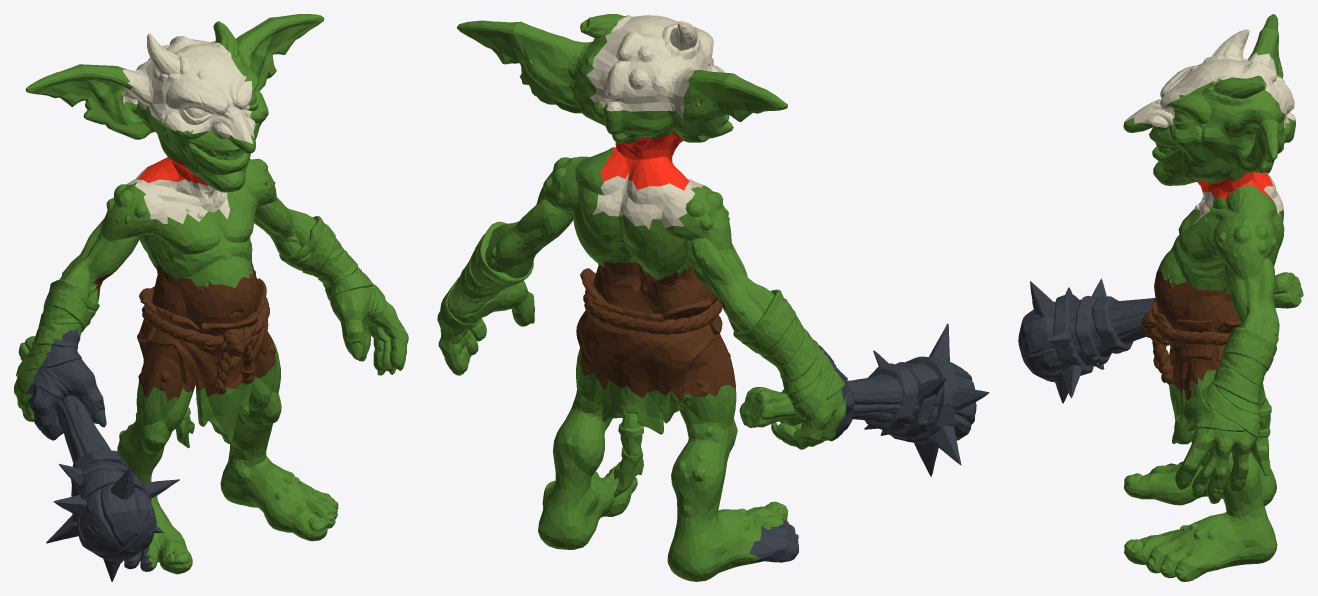
File: bonkling.obj
3 renders of one model, left to right at view 1: azimuth 30°, elevation 25°; view 2: azimuth 150°, elevation 25°; view 3: azimuth 270°, elevation 25°, orthographic. The views are drawn at different scales.
Parts seen in each view (by area): view 1: Mesh_0; view 2: Mesh_0; view 3: Mesh_0.
Part boxes in pixels (x1,y1,x2,y2): Mesh_0: (14,14,408,581); Mesh_0: (437,14,989,581); Mesh_0: (1018,14,1303,581).
Bounding box in the file's own units: 1.2 × 1.35 × 0.7267.
